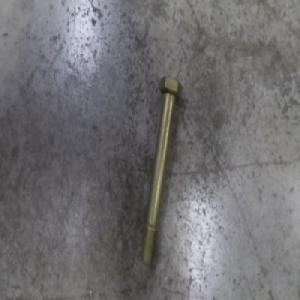Bolt: (140, 73, 183, 269)
